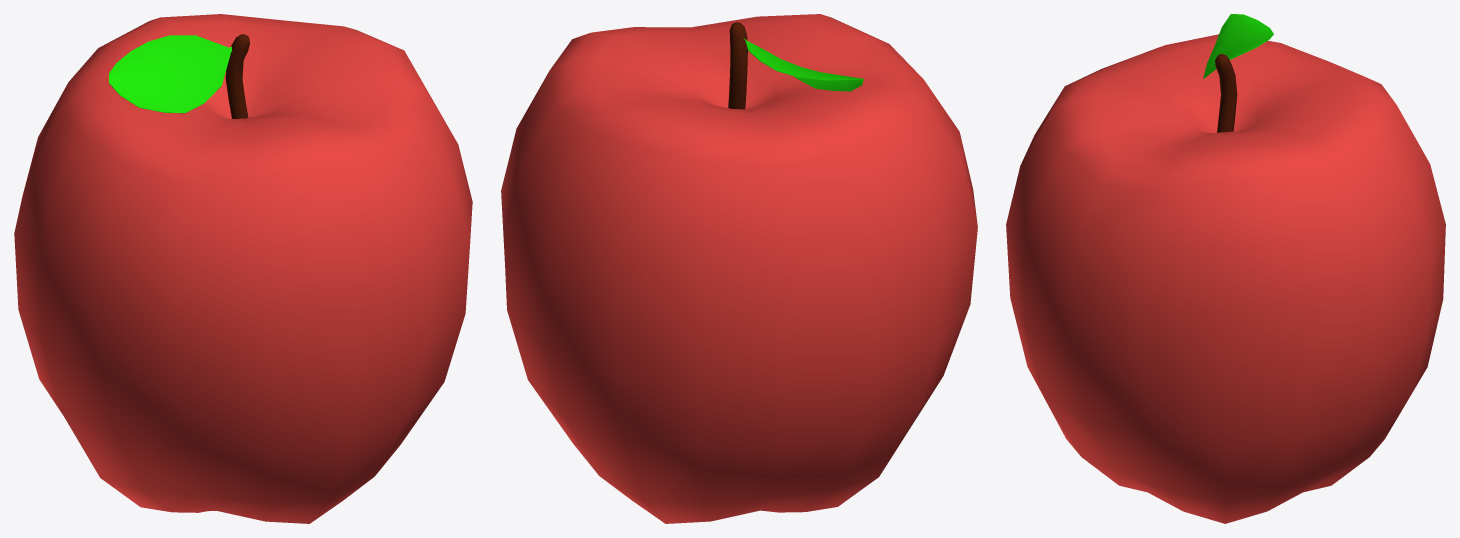
File: manzana.fbx
3 renders of one model, left to right at view 1: azimuth 30°, elevation 25°; view 2: azimuth 150°, elevation 25°; view 3: azimuth 270°, elevation 25°, orthographic. The views are drawn at different scales.
Visible parts, largest first — view 1: manzana; view 2: manzana; view 3: manzana.
Boxes of the visible parts, bbox=[...] form: manzana: bbox=[14, 14, 472, 523]; manzana: bbox=[501, 14, 977, 523]; manzana: bbox=[1006, 14, 1445, 523].
Size of the model in its own units: 9.77 by 10.69 by 9.82.
